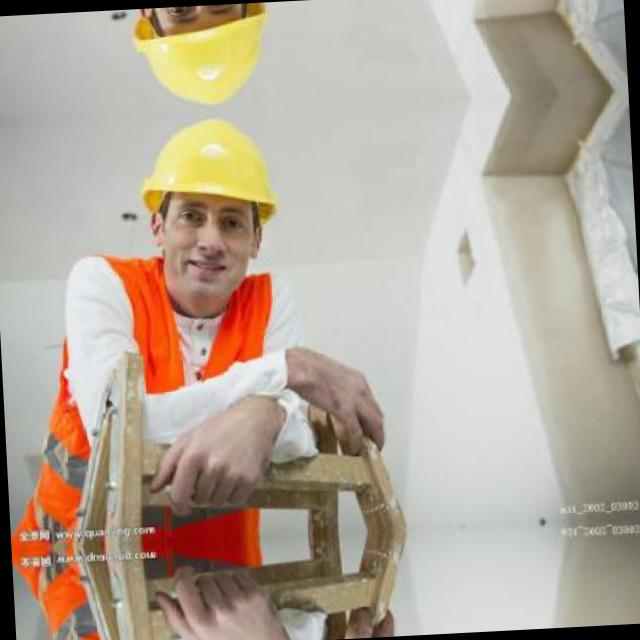helmet: (120, 115, 294, 318), (114, 2, 284, 110)
